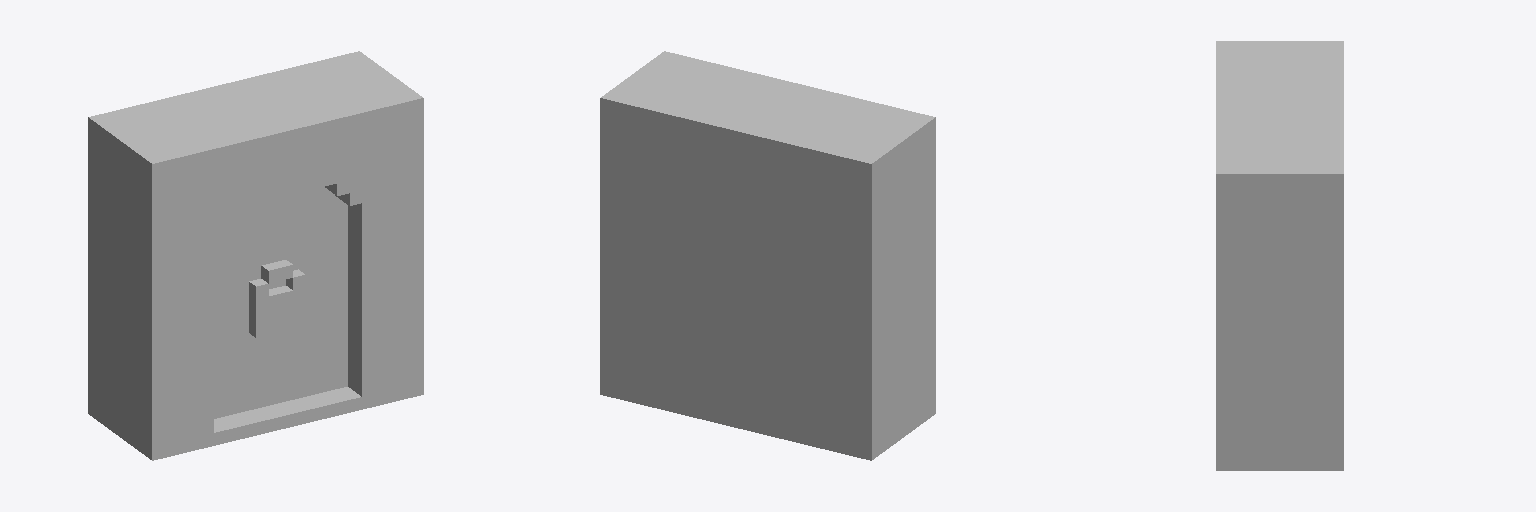
The model's file is DoorClosed.obj.
3 views of the same model, side by side, from view 1: azimuth 30°, elevation 25°; view 2: azimuth 150°, elevation 25°; view 3: azimuth 270°, elevation 25° (orthographic).
Visible parts, largest first — view 1: DoorClosed; view 2: DoorClosed; view 3: DoorClosed.
Part boxes in pixels (left/top/right/bottom): DoorClosed: left=88, top=51, right=423, bottom=460; DoorClosed: left=600, top=51, right=935, bottom=460; DoorClosed: left=1216, top=41, right=1343, bottom=470.
Bounding box in the file's own units: 22 × 23 × 9.